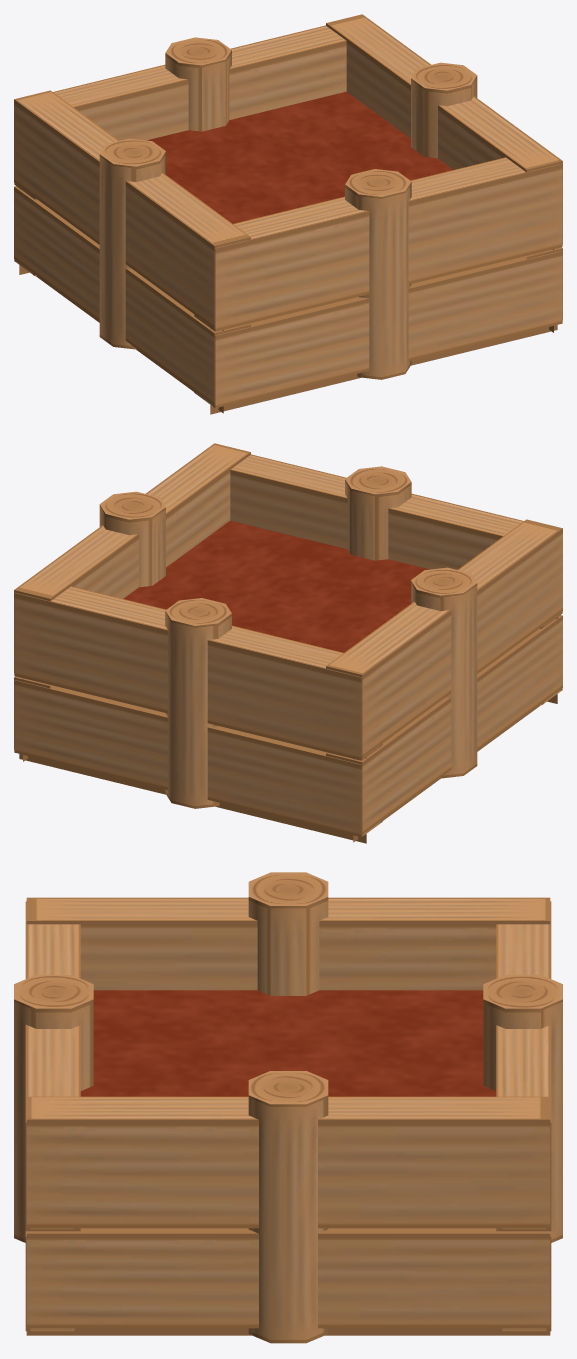
File: Flowerbed_Hand.fbx
3 views of the same model, one above another, from view 1: azimuth 30°, elevation 25°; view 2: azimuth 150°, elevation 25°; view 3: azimuth 270°, elevation 25° (orthographic). The views are drawn at different scales.
Visible parts, largest first — view 1: Up, Right, FencePost, Down, Left; view 2: Down, Right, FencePost, Up, Left; view 3: Left, Right, FencePost, Up, Down.
Boxes of the visible parts, left/top/right/bottom form: Up: left=194, top=157, right=562, bottom=414; Right: left=14, top=90, right=250, bottom=413; FencePost: left=146, top=91, right=453, bottom=223; Down: left=14, top=25, right=346, bottom=276; Left: left=326, top=14, right=562, bottom=332; Down: left=14, top=586, right=382, bottom=843; Right: left=326, top=519, right=562, bottom=842; FencePost: left=123, top=520, right=430, bottom=652; Up: left=230, top=454, right=562, bottom=705; Left: left=14, top=443, right=250, bottom=761; Left: left=26, top=1071, right=550, bottom=1343; Right: left=26, top=872, right=550, bottom=995; FencePost: left=80, top=990, right=496, bottom=1096; Up: left=14, top=901, right=93, bottom=1331; Down: left=483, top=901, right=562, bottom=1331.
Size of the model in its own units: 0.8386 by 0.4136 by 0.8386.
